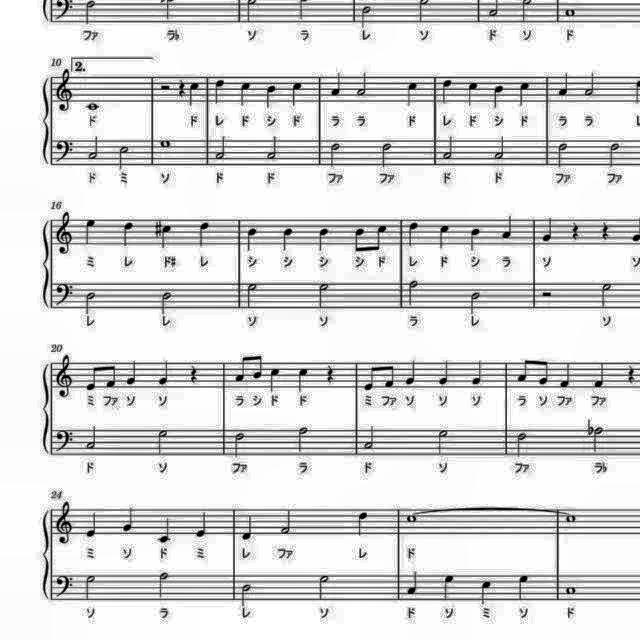Bass-clef: (54, 572, 78, 602), (54, 427, 78, 457), (54, 278, 78, 308), (54, 136, 78, 164)
Eighth-note: (360, 361, 378, 393), (350, 222, 368, 254), (374, 222, 391, 254), (85, 362, 102, 394), (234, 354, 250, 386), (104, 361, 120, 392), (516, 353, 532, 383), (382, 361, 398, 391), (250, 351, 264, 381), (536, 358, 550, 388)
Full-note: (84, 98, 104, 114), (561, 583, 579, 599), (562, 4, 578, 20), (562, 512, 578, 528), (158, 134, 174, 150), (405, 512, 421, 526)
Half-note: (596, 280, 616, 312), (158, 288, 178, 320), (230, 430, 250, 460), (156, 570, 174, 602), (317, 279, 335, 311), (243, 280, 261, 312), (315, 572, 333, 604), (152, 425, 170, 457), (82, 421, 100, 452), (327, 141, 345, 171), (514, 431, 532, 461), (378, 141, 396, 171), (434, 427, 451, 458), (82, 570, 98, 602), (406, 276, 422, 308), (606, 140, 622, 172), (294, 424, 310, 456), (237, 580, 255, 608), (465, 290, 483, 318), (278, 507, 294, 538), (86, 132, 102, 162), (442, 132, 458, 162), (213, 132, 229, 162), (492, 132, 508, 162), (590, 425, 606, 455), (554, 140, 570, 170), (354, 70, 370, 100), (362, 423, 378, 452), (115, 144, 131, 172), (266, 134, 282, 162), (84, 290, 100, 318), (583, 72, 599, 100)
Half-rest: (538, 286, 554, 300), (159, 81, 173, 95)
Quarter-note: (514, 572, 534, 604), (157, 514, 176, 546), (278, 225, 298, 255), (441, 572, 459, 604), (194, 506, 212, 538), (353, 508, 371, 540), (118, 220, 136, 250), (156, 359, 174, 389), (196, 220, 214, 250), (405, 79, 423, 109), (119, 503, 137, 533), (478, 577, 496, 607), (315, 225, 333, 255), (437, 222, 455, 252), (439, 77, 457, 107), (405, 569, 423, 599), (240, 512, 256, 544), (86, 508, 102, 540), (84, 216, 100, 248), (158, 218, 174, 250), (464, 80, 481, 110), (293, 366, 311, 394), (516, 80, 534, 108), (243, 226, 261, 254), (472, 357, 488, 388), (436, 357, 452, 388), (558, 358, 574, 389), (211, 77, 227, 107), (406, 219, 422, 249), (592, 361, 608, 391), (288, 80, 304, 110), (330, 70, 346, 100), (238, 80, 254, 110), (498, 213, 514, 243), (404, 357, 420, 387), (538, 215, 554, 245), (125, 357, 141, 387), (489, 83, 506, 111), (556, 72, 572, 100), (264, 84, 280, 112), (466, 226, 482, 254), (268, 366, 284, 394), (186, 80, 202, 108)
Quarter-rest: (322, 358, 338, 386), (597, 218, 613, 244), (624, 362, 640, 388), (566, 220, 582, 244), (186, 361, 200, 387), (176, 77, 188, 101)
Treble-clef: (54, 351, 78, 401), (54, 499, 78, 548), (54, 65, 78, 113), (54, 208, 76, 256)
